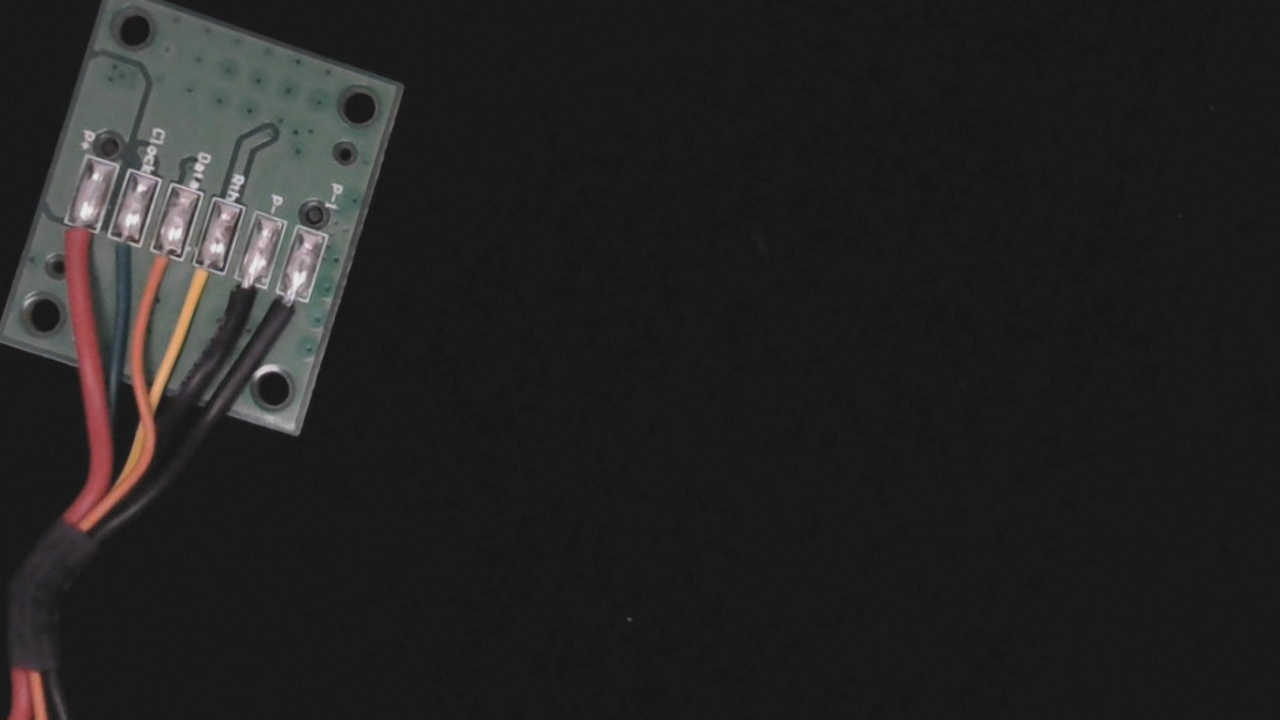Black: (212, 262, 269, 347)
Black1: (256, 277, 314, 361)
Green: (87, 218, 148, 306)
Orange: (130, 234, 190, 323)
Red: (43, 206, 104, 294)
Yellow: (167, 248, 229, 340)
